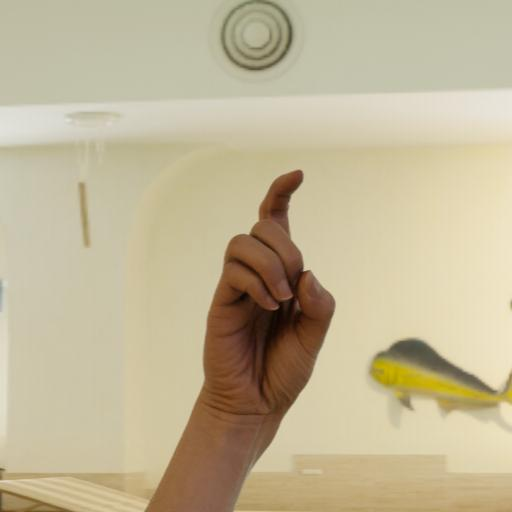X: (181, 164, 346, 432)
